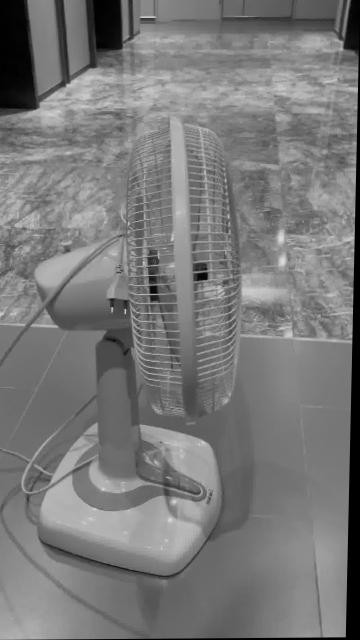Fan: (35, 117, 243, 579)
